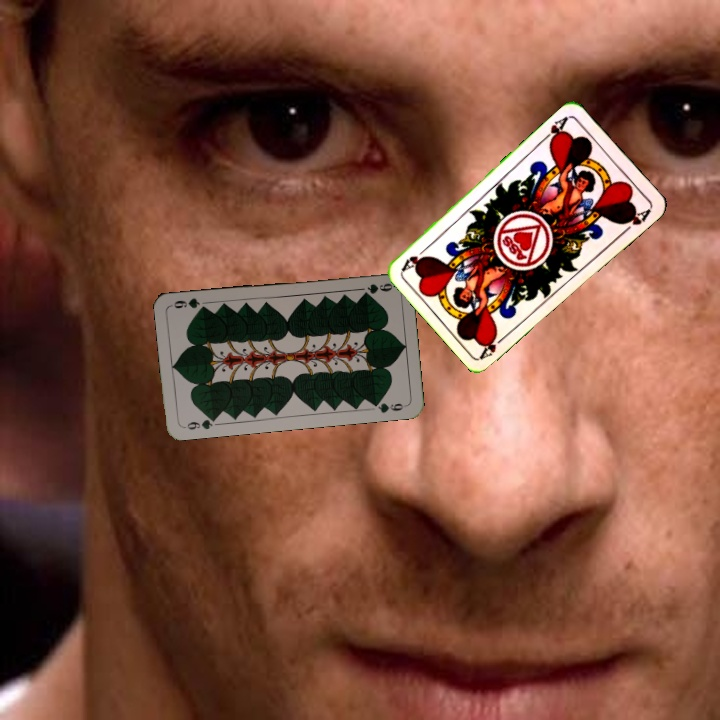G9: (180, 413, 220, 432), (363, 279, 397, 296)
HA: (538, 112, 571, 148), (477, 329, 511, 361)
